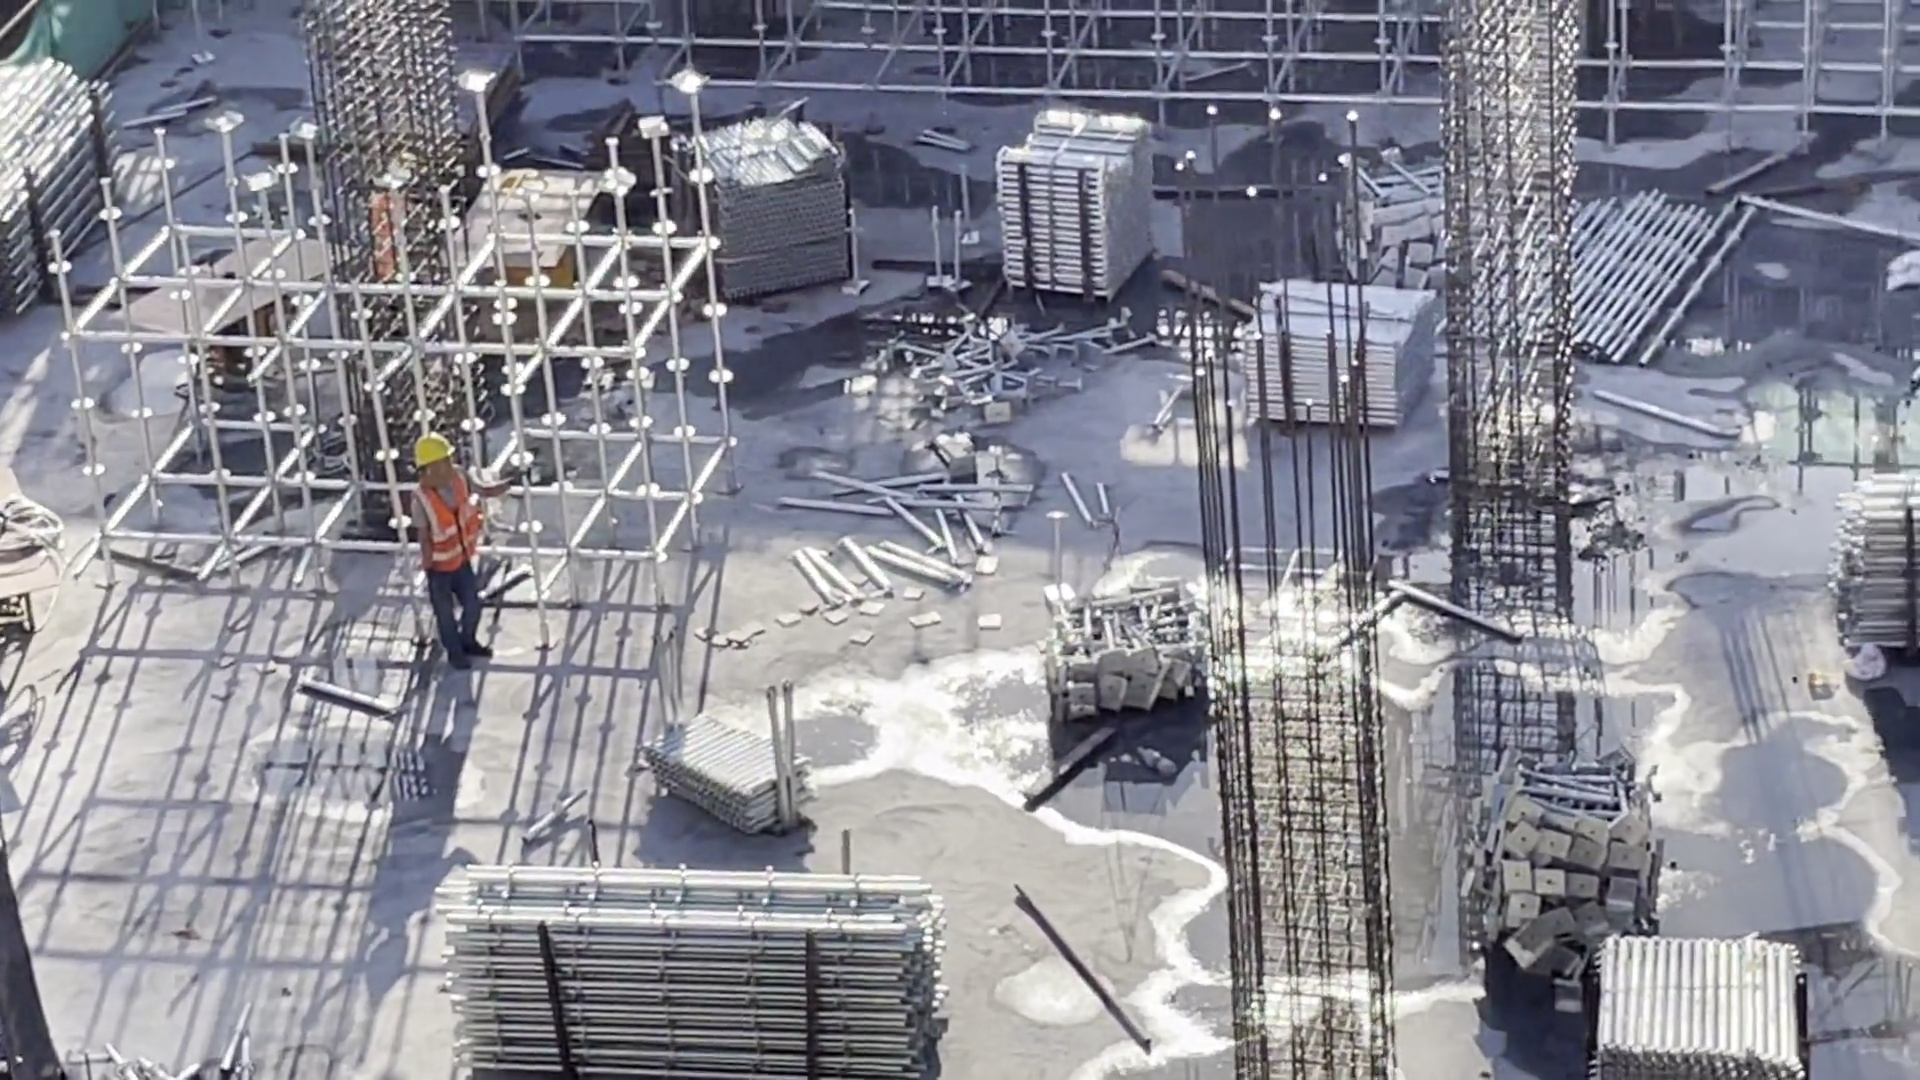cutter: (111, 219, 343, 412), (421, 165, 607, 316)
helmet: (410, 430, 460, 475)
person: (404, 428, 500, 667)
scaffold: (443, 861, 946, 1080), (1464, 760, 1680, 1018), (650, 119, 866, 294), (1, 48, 125, 328), (1601, 928, 1813, 1080), (1237, 275, 1459, 418), (1550, 198, 1744, 350), (994, 102, 1153, 288), (1039, 588, 1244, 716), (1334, 155, 1490, 322), (909, 310, 1103, 436), (649, 711, 819, 834), (1832, 461, 1920, 646)
vest: (419, 478, 480, 574)
